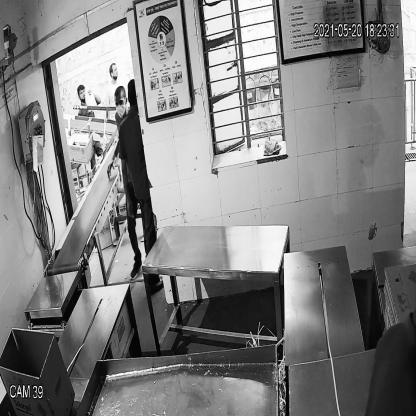no_goggles: (113, 96, 127, 111)
